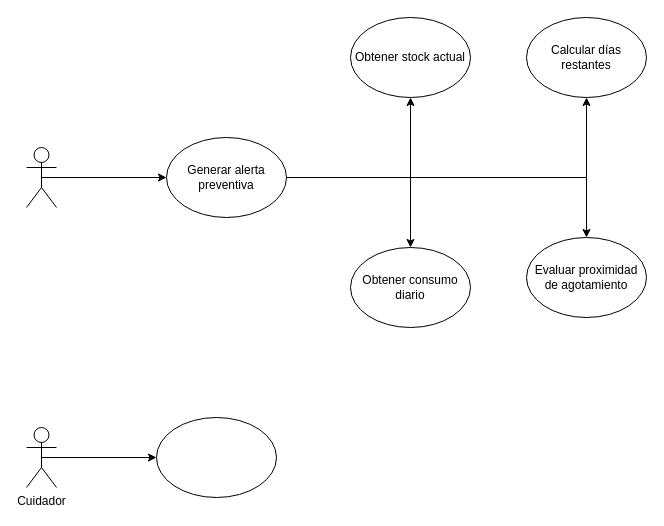
Some shapes in this 664 by 526 pixel diagram are drawn without their labels. The shapes that lost their labels are listed below. From the top down, each one's centre as x and y in pixels, then its label:
At [41,177]: "Sistema".
At [216,457]: "Recibir notificación preventiva".
